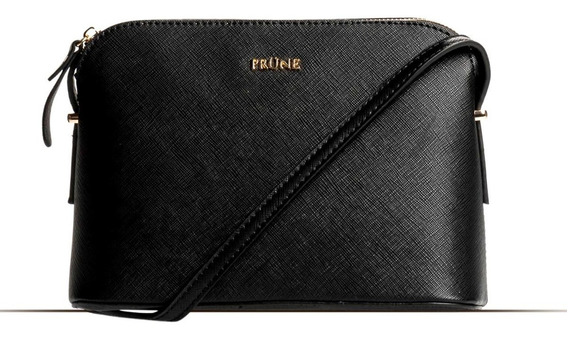cartera: (40, 13, 494, 317)
